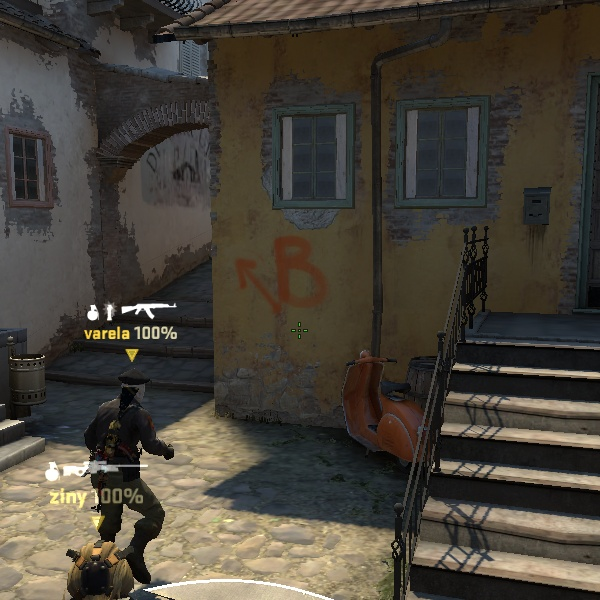ct_body: (67, 364, 195, 596)
ct_head: (109, 367, 157, 415)
